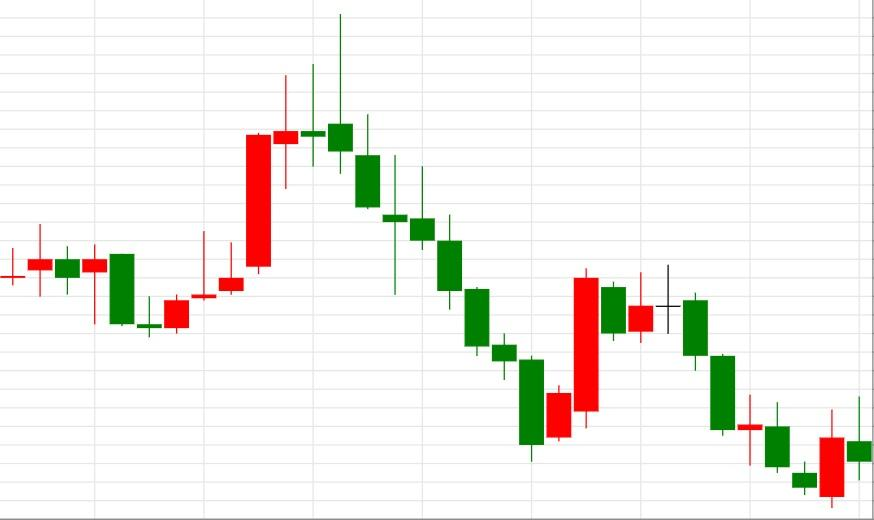evening_star_fall: (517, 263, 709, 462)
shooting_star_fall: (136, 14, 354, 337)
